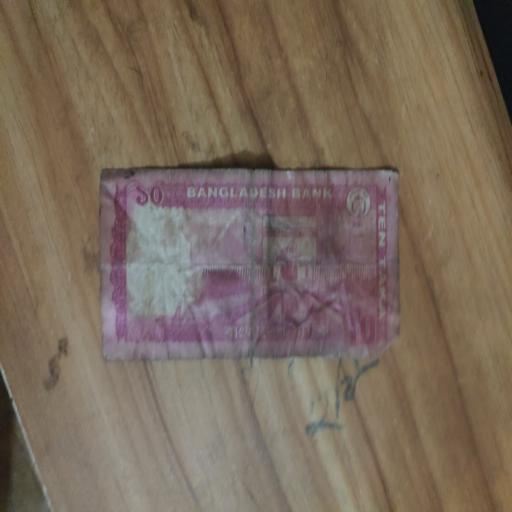10taka: (94, 163, 412, 366)
